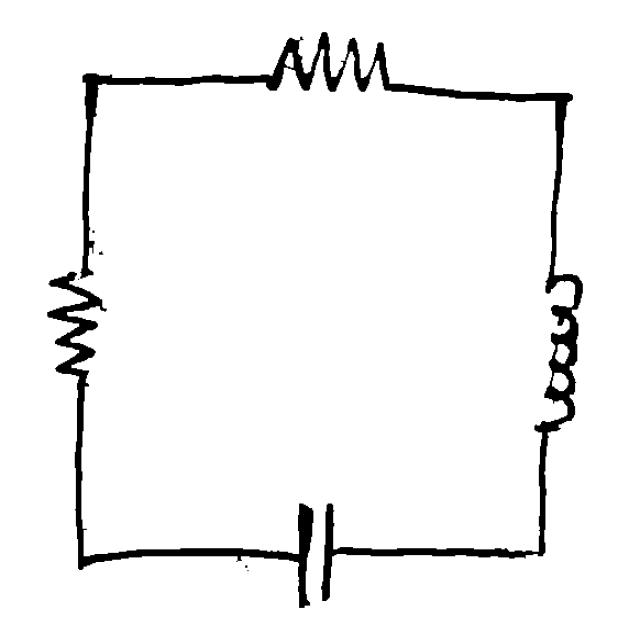capacitor: (286, 486, 348, 617)
inductor: (523, 260, 586, 446)
resistor: (258, 22, 409, 115), (37, 250, 114, 396)
